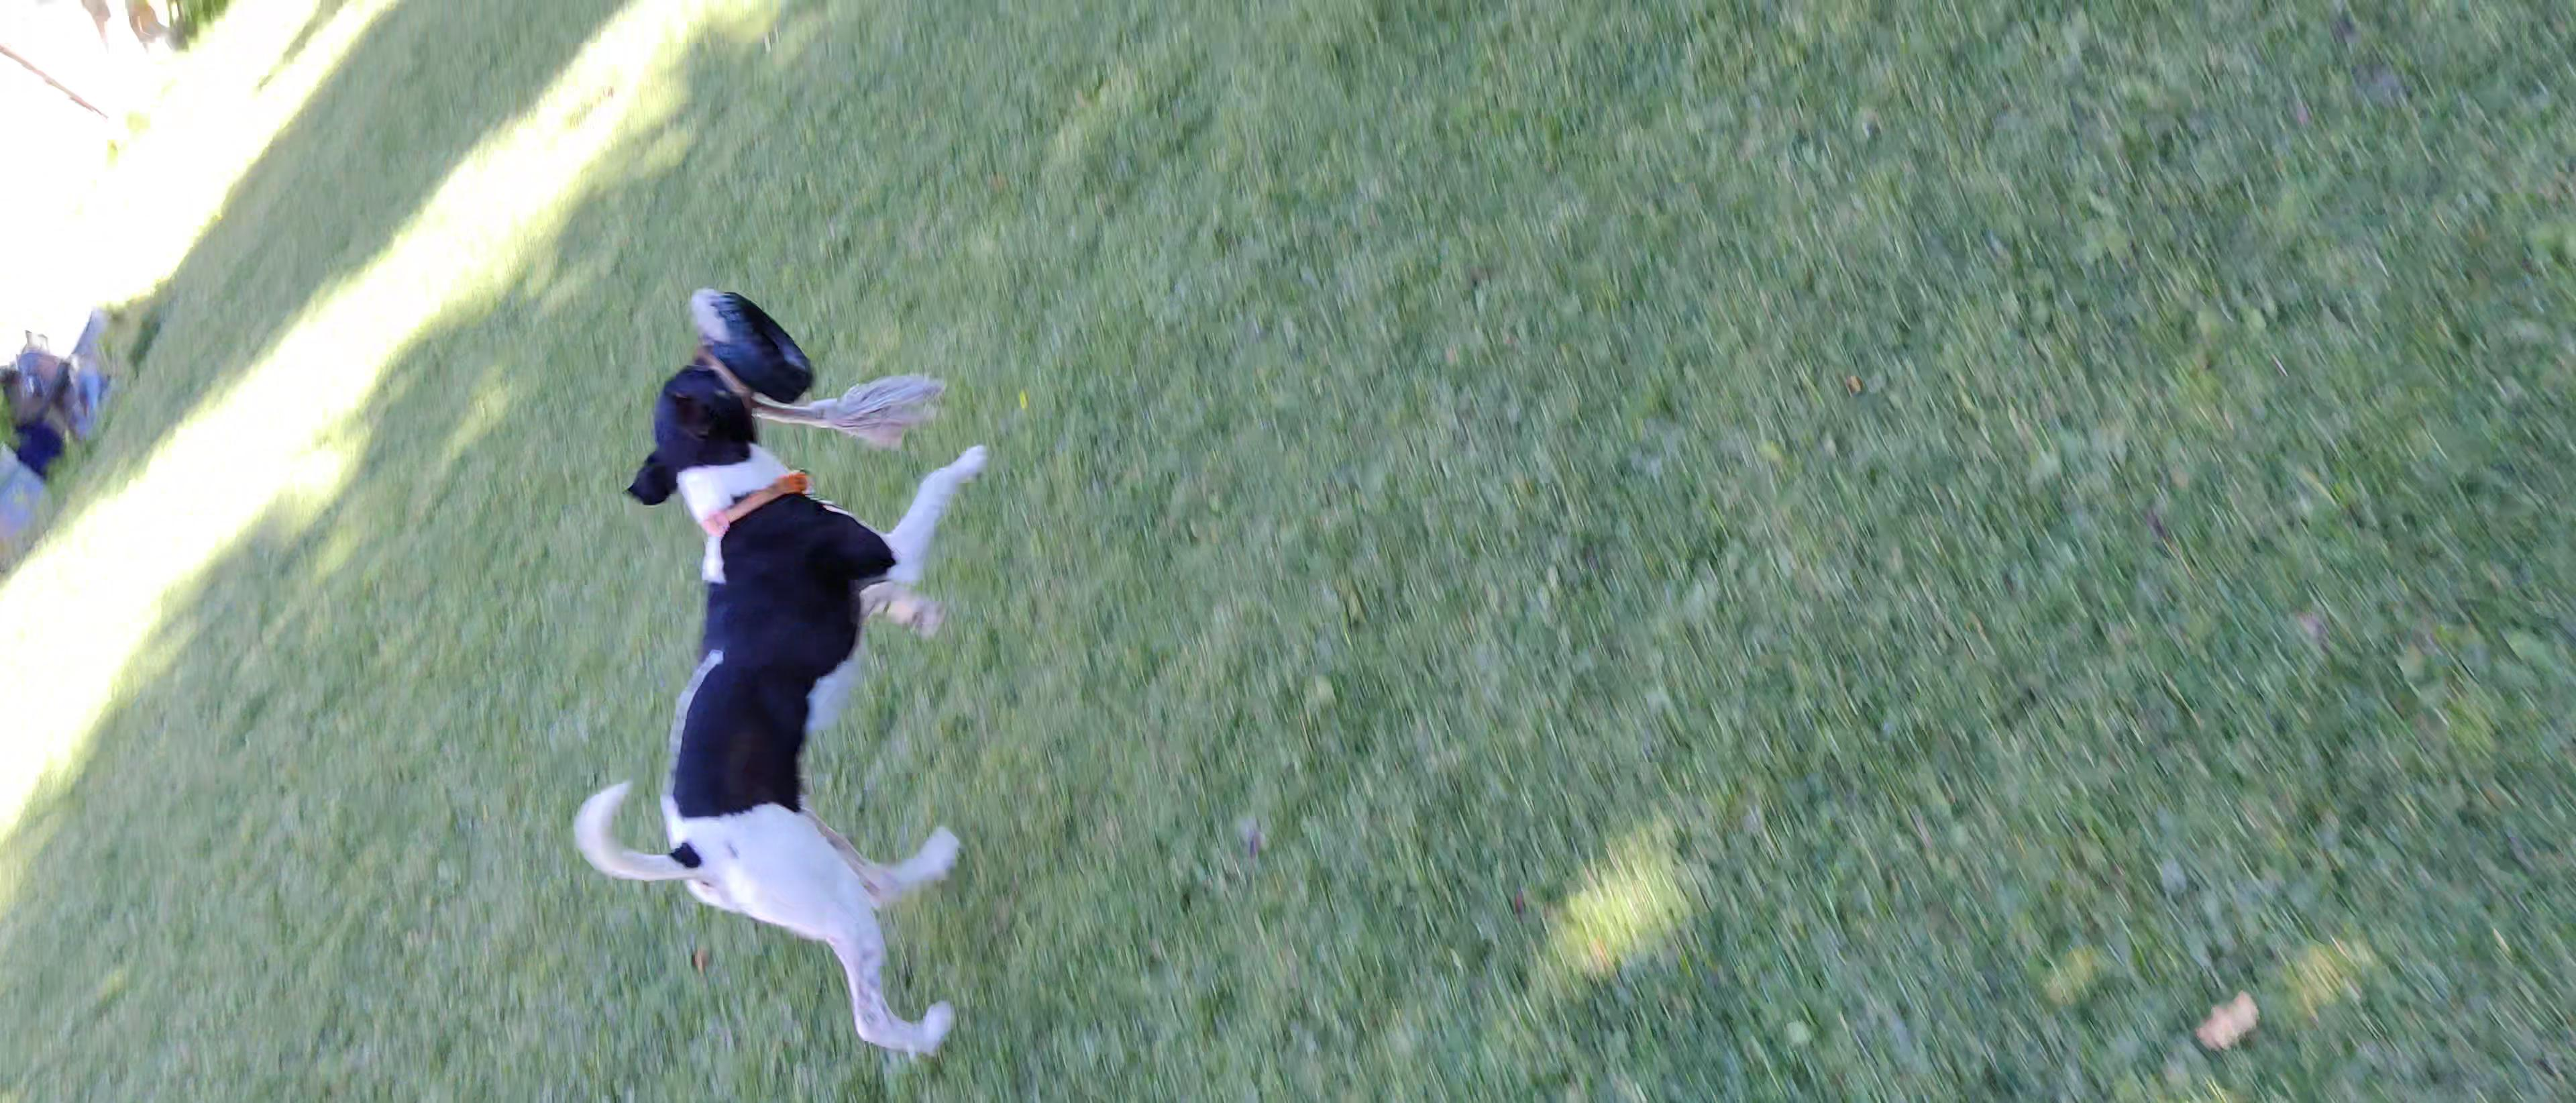Dog: (552, 332, 996, 1075)
